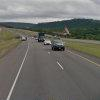Car: (44, 33, 73, 56)
